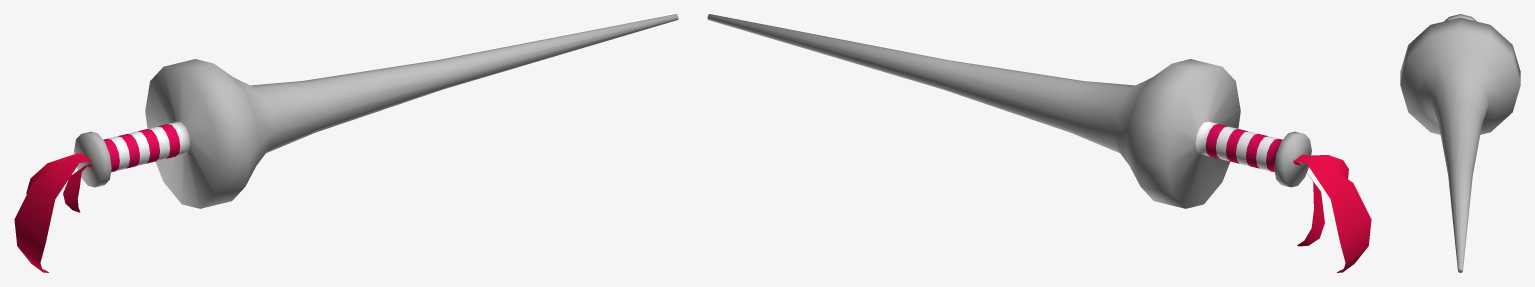
File: lance.fbx
3 views of the same model, side by side, from view 1: azimuth 30°, elevation 25°; view 2: azimuth 150°, elevation 25°; view 3: azimuth 270°, elevation 25° (orthographic). The views are drawn at different scales.
Visible parts, largest first — view 1: Lance, Feather1, Feather2; view 2: Lance, Feather1, Feather3; view 3: Lance.
Part boxes in pixels (box(x1,y1,x2,y2)): Lance: box(74, 14, 678, 208); Feather1: box(14, 154, 91, 272); Feather2: box(63, 164, 93, 212); Lance: box(707, 14, 1311, 208); Feather1: box(1294, 154, 1371, 272); Feather3: box(1293, 161, 1324, 246); Lance: box(1400, 14, 1520, 272).
Bounding box in the file's own units: 1615 × 400 × 317.
